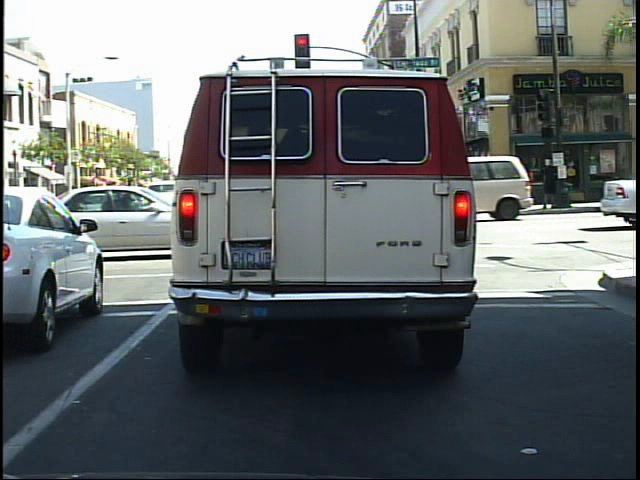person: (536, 154, 562, 214), (516, 157, 541, 215), (481, 156, 501, 214), (491, 165, 510, 213)
